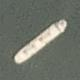ship: (0, 0, 30, 26)
